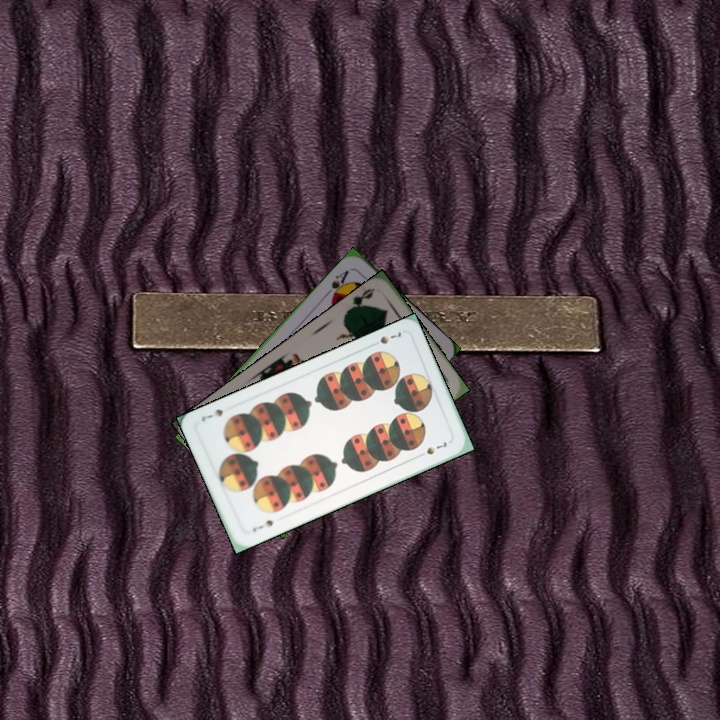GO: (343, 284, 376, 314)
S7: (367, 326, 404, 349), (249, 516, 276, 534)
SA: (321, 266, 352, 302)
